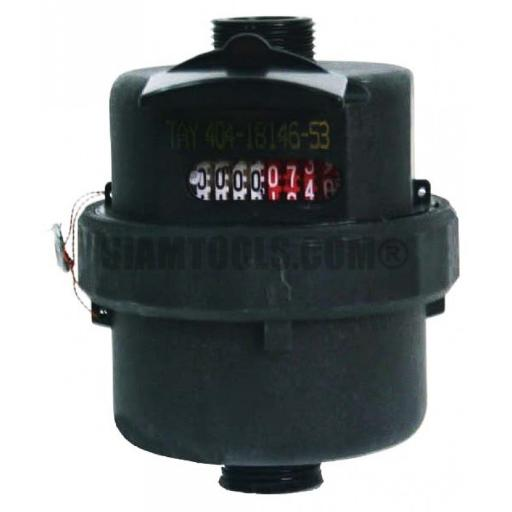0: (321, 158, 341, 202), (247, 160, 266, 201), (212, 160, 230, 200), (266, 158, 282, 202), (193, 161, 211, 199), (231, 160, 248, 200)
3: (301, 158, 321, 202)
7: (283, 158, 302, 202)
border_water_meter_number: (186, 153, 347, 207)
